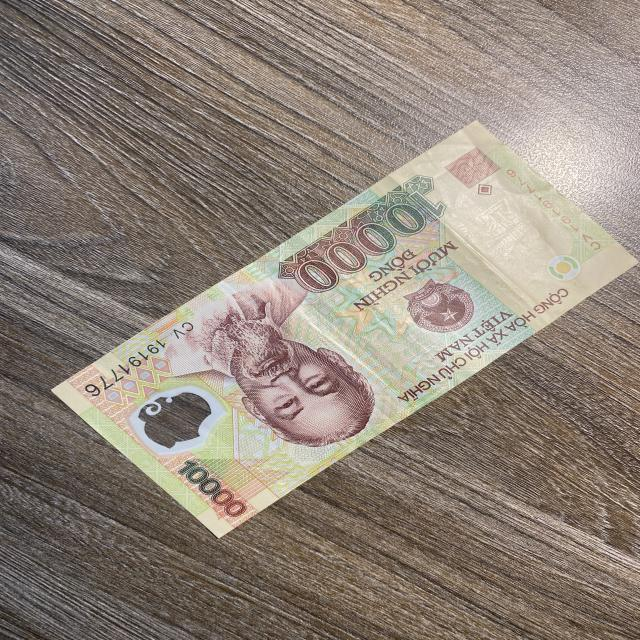10 000 VND: (45, 117, 640, 541)
